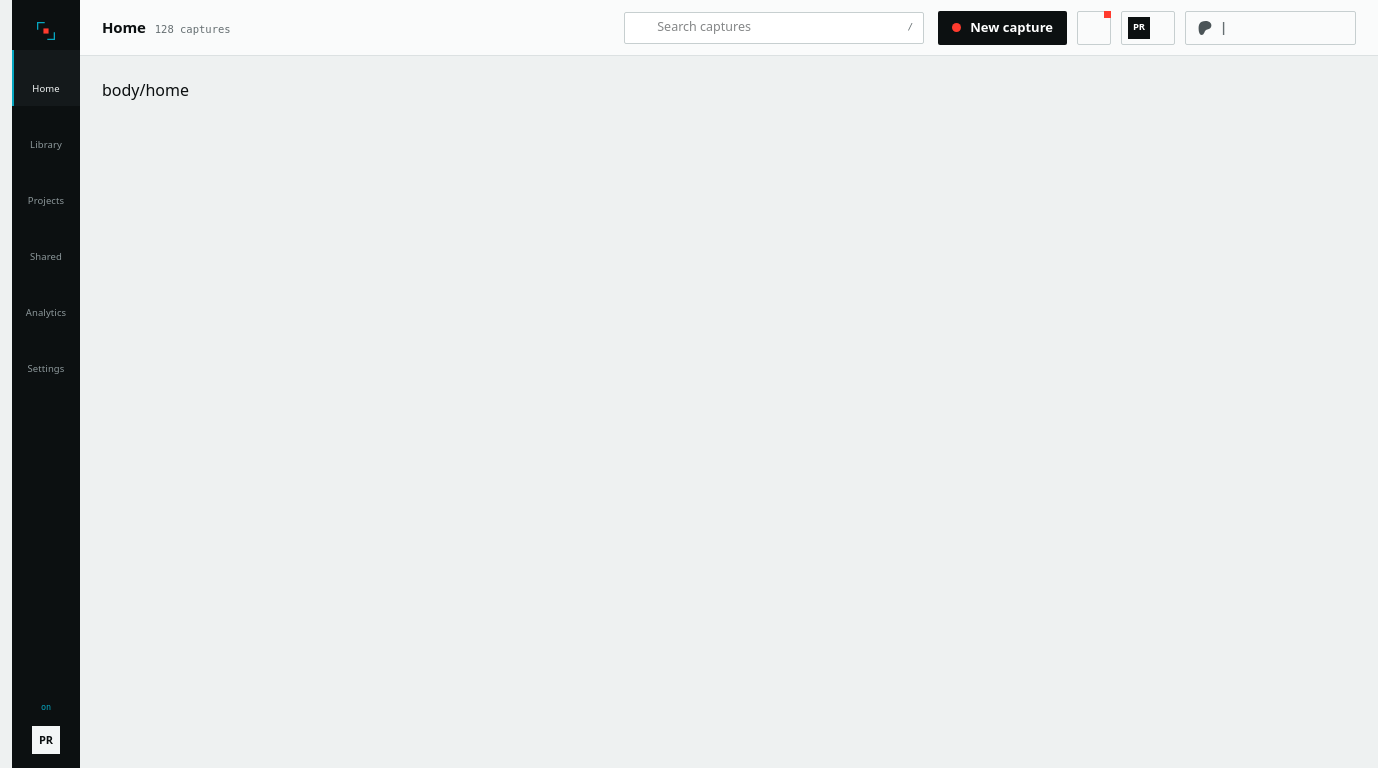
Test: AppShell › the account menu › closes on Escape
Click the button with aria-label "Priya Raman".
click(1148, 28)  # box [1121,10,1175,44]
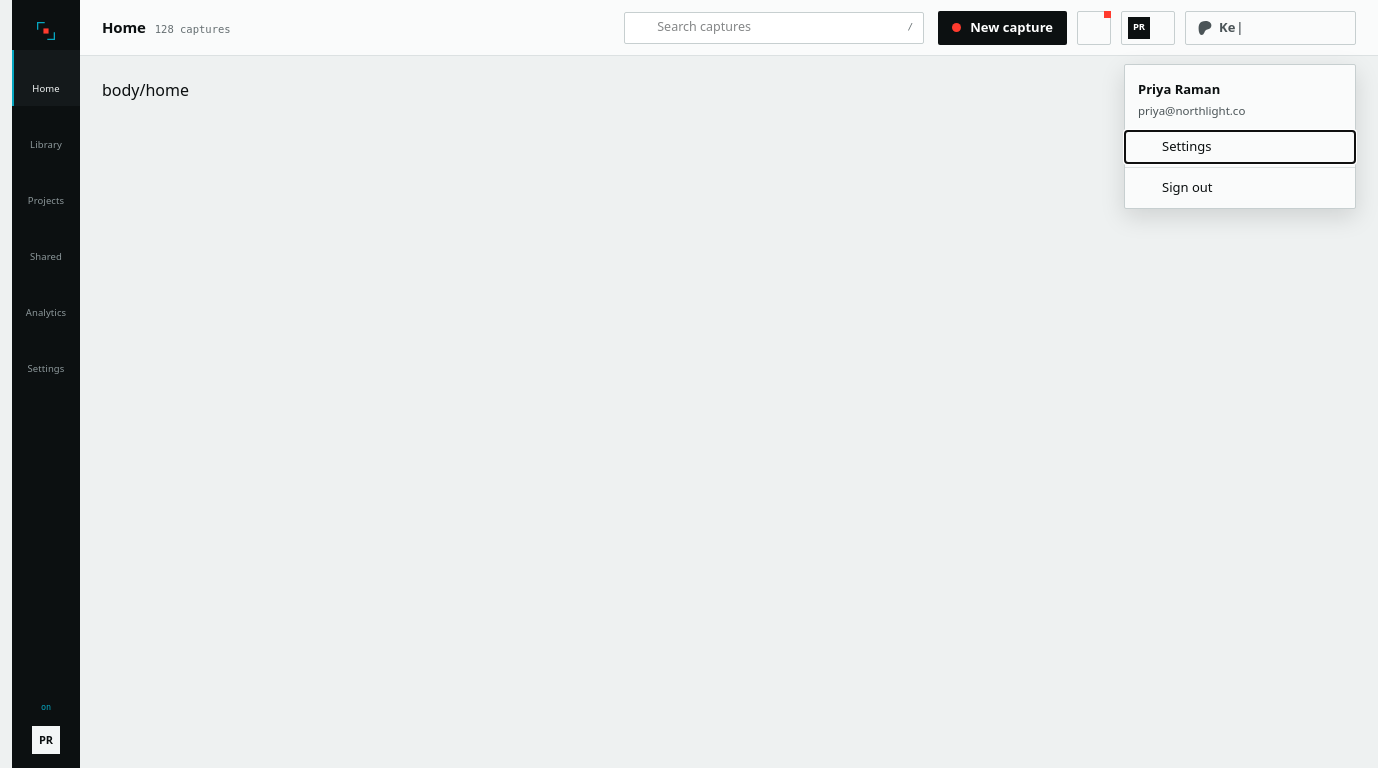
Press Escape
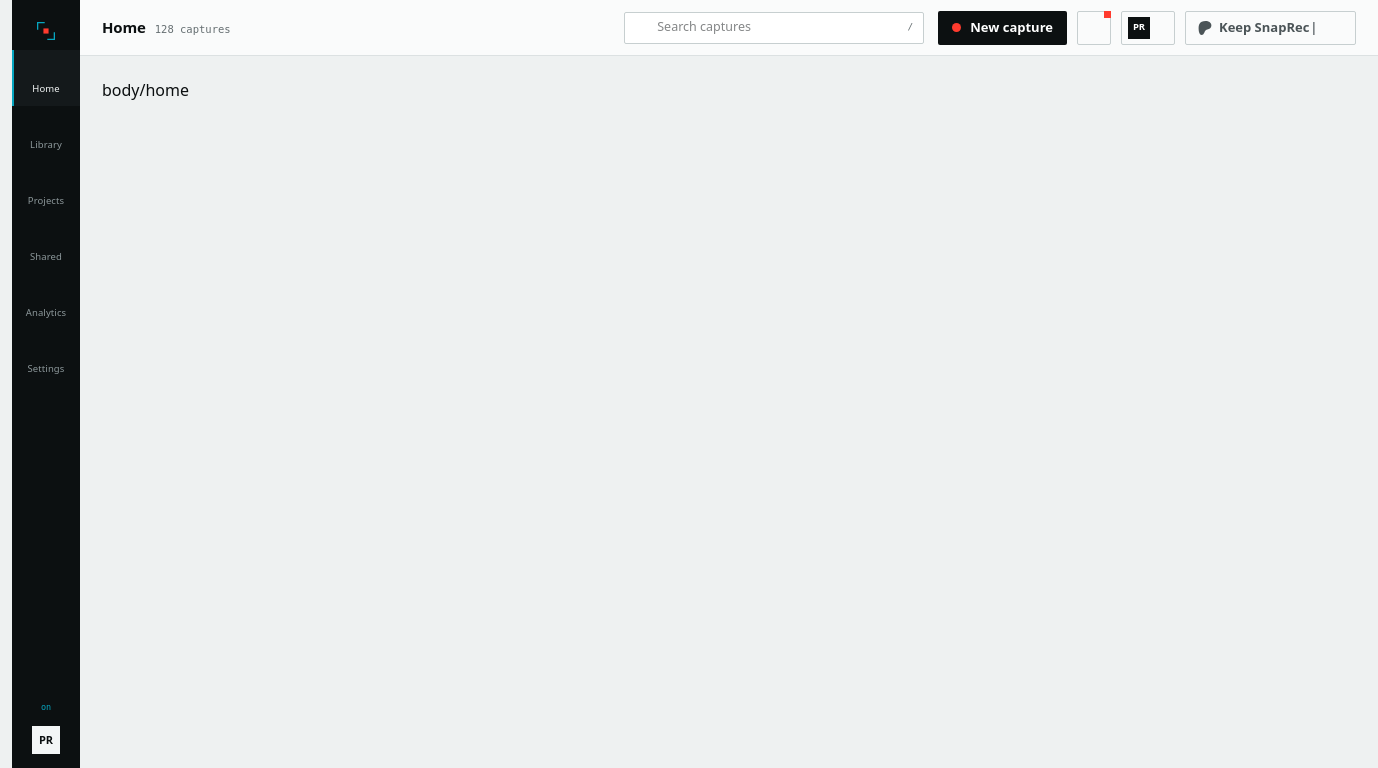
Expected: the menu "Account" is gone
